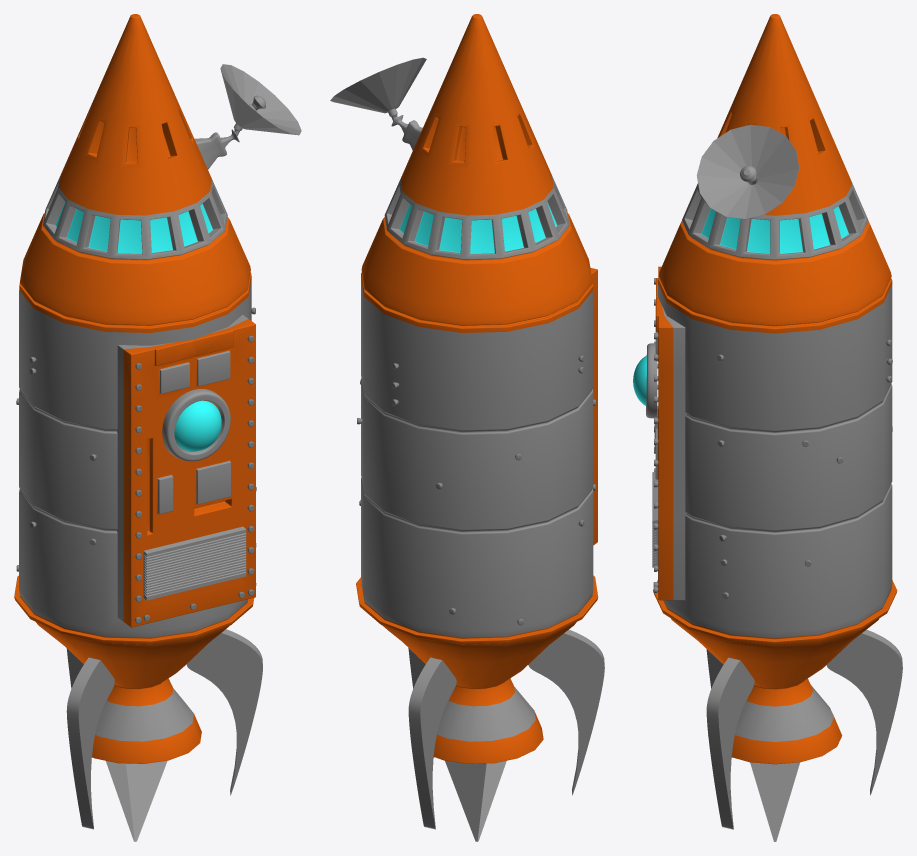
File: rocket-final.glb
The picture shows the model from 3 angles, left to right: view 1: azimuth 30°, elevation 25°; view 2: azimuth 150°, elevation 25°; view 3: azimuth 270°, elevation 25°; orthographic projection.
Visible parts, largest first — view 1: body, engine-fire; view 2: body, engine-fire; view 3: body, engine-fire.
Boxes of the visible parts, left/top/right/bottom form: body: left=14, top=14, right=301, bottom=829; engine-fire: left=106, top=760, right=167, bottom=841; body: left=330, top=14, right=604, bottom=829; engine-fire: left=445, top=760, right=506, bottom=841; body: left=633, top=14, right=902, bottom=829; engine-fire: left=750, top=762, right=799, bottom=841.
Size of the model in its own units: 3.09 by 9.6 by 2.84.
